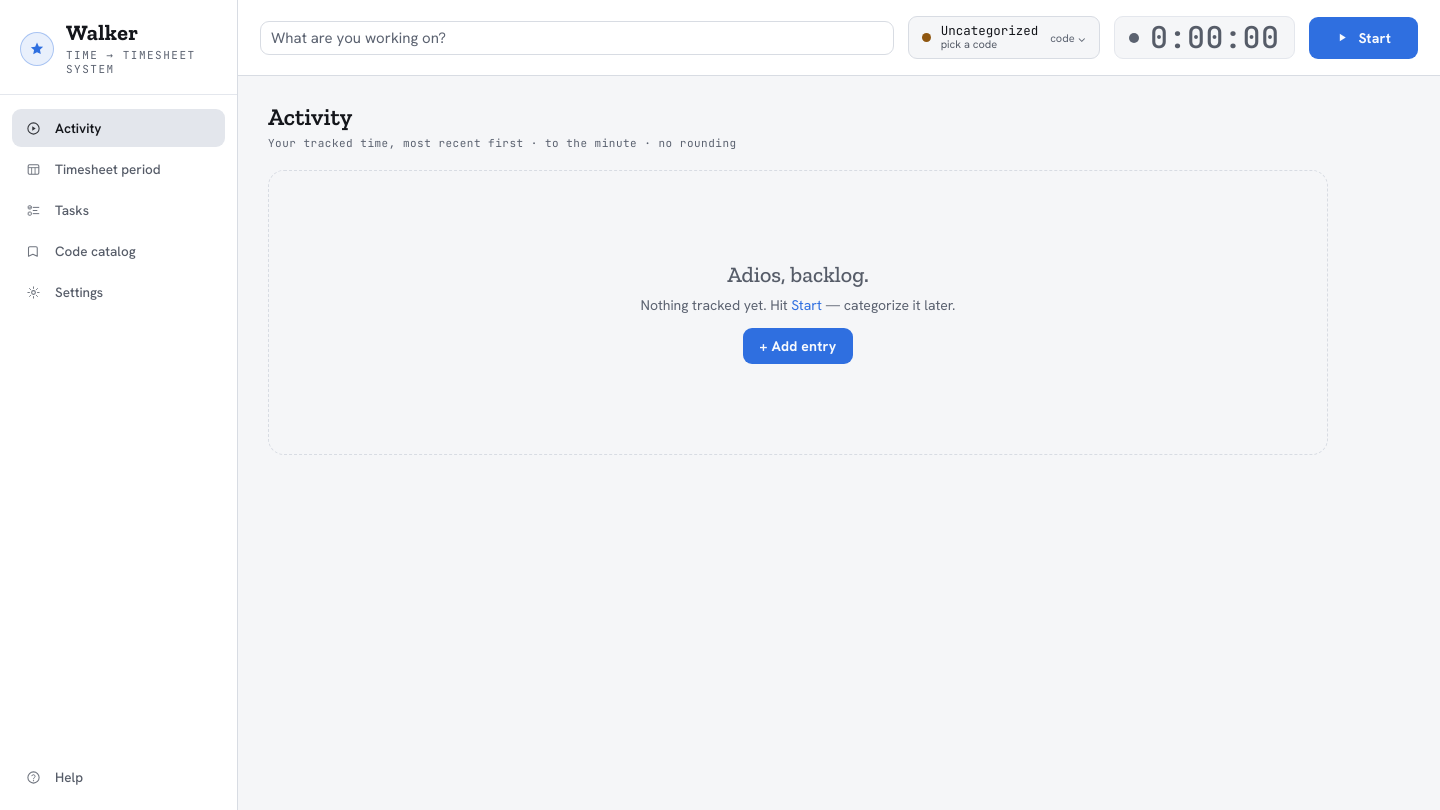
Test: App — code picker stacks above the Timesheet-period cell modal (TEC-009) › offers Delete for a code whose entries all fall outside the loaded window
Click the button "Code catalog" at point(118, 251), box 12,232 -> 225,270
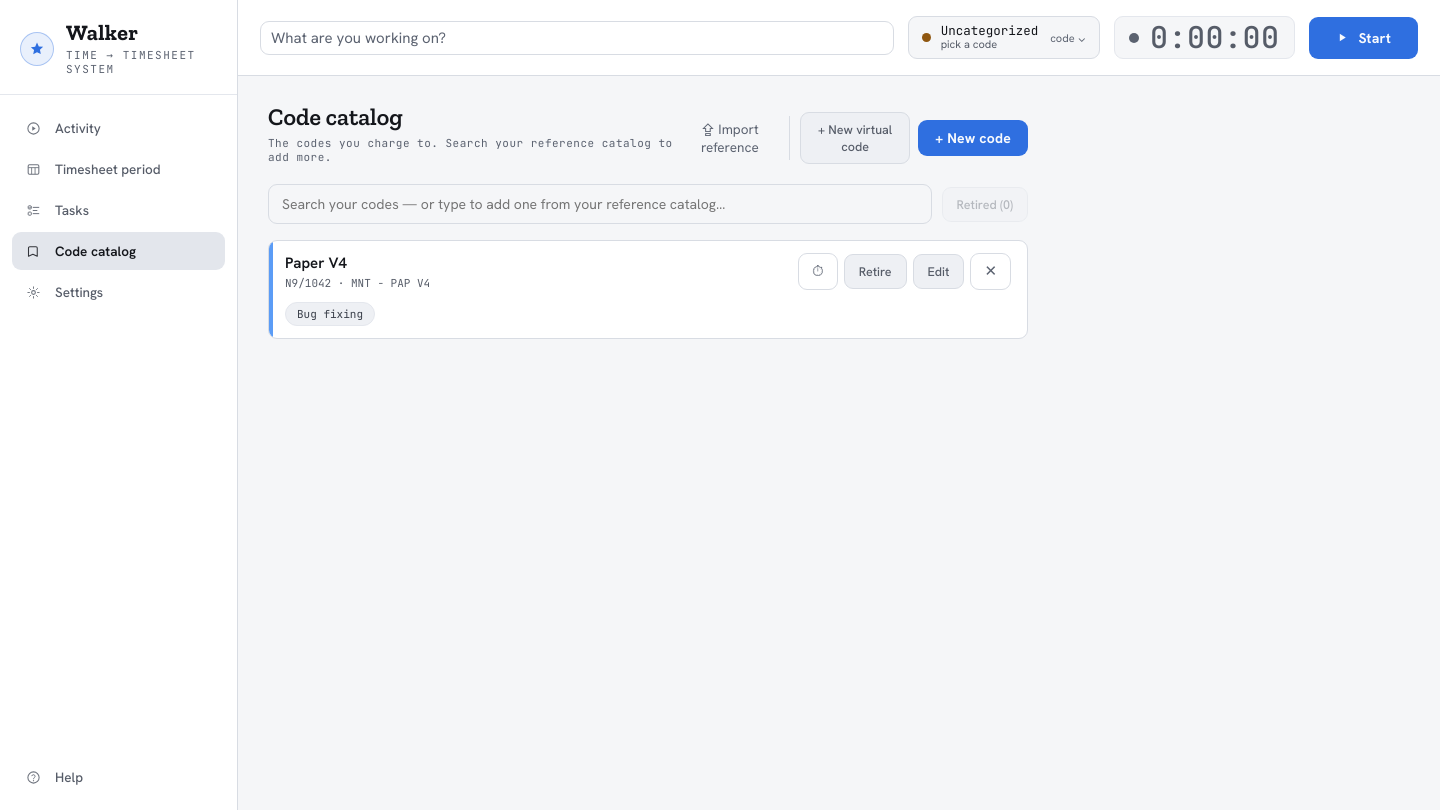
Click the button with test id "wk-catalog-delete-1" at point(991, 272), box 970,253 -> 1011,290
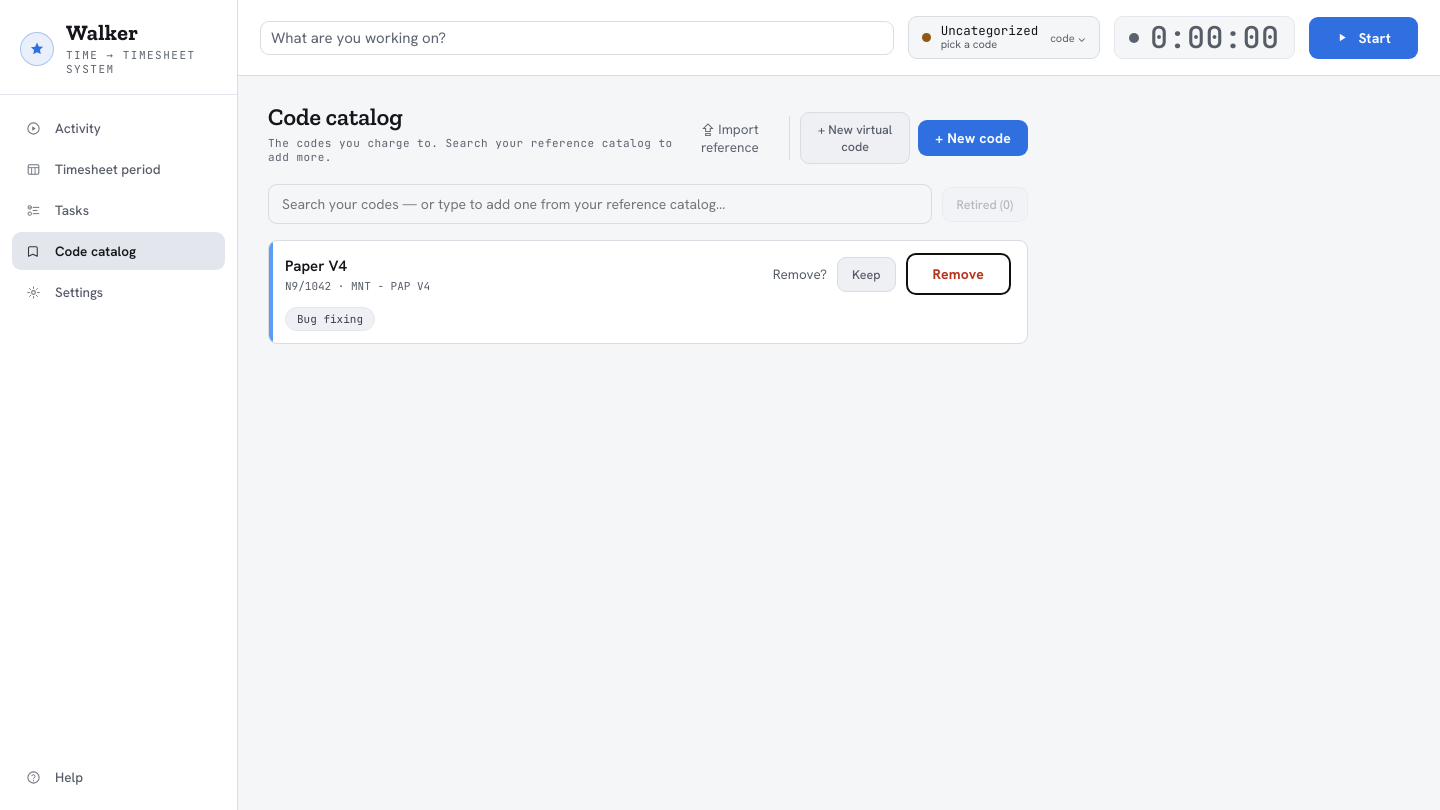
Result: the button with test id "wk-catalog-delete-1-confirm" is shown at 906,253 -> 1011,295
